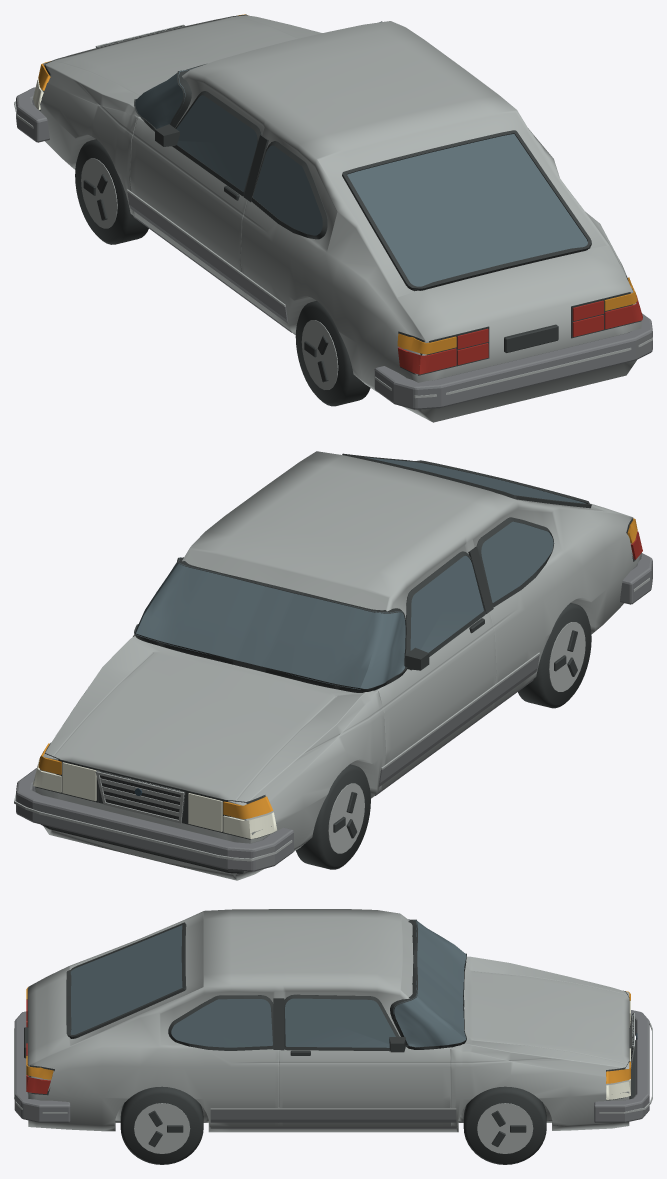
The model's file is saab900-t16.glb.
3 views of the same model, one above another, from view 1: azimuth 30°, elevation 25°; view 2: azimuth 150°, elevation 25°; view 3: azimuth 270°, elevation 25° (orthographic). The views are drawn at different scales.
Parts seen in each view (by area): view 1: body, glass_envelope, bumper_rear, round3_charcoal_plastic_rubber, round3_tail_lamp_red, wheel_rl, round3_bumper_grey, wheel_fl, trim_rim_fl, round3_satin_alloy, trim_rim_rl, round3_indicator_amber (+2 smaller); view 2: body, glass_envelope, round3_charcoal_plastic_rubber, bumper_front, round3_headlamp_ivory, round3_satin_alloy, wheel_fl, round3_bumper_grey, wheel_rl, trim_rim_fl, trim_rim_rl, round3_indicator_amber (+2 smaller); view 3: body, glass_envelope, round3_charcoal_plastic_rubber, round3_bumper_grey, wheel_fr, wheel_rr, bumper_front, bumper_rear, trim_rim_rr, trim_rim_fr, round3_satin_alloy, round3_indicator_amber (+4 smaller).
Part boxes in pixels (x1,y1,x2,y2): body: (34, 15, 642, 422); glass_envelope: (135, 22, 587, 286); bumper_rear: (374, 313, 652, 409); round3_charcoal_plastic_rubber: (39, 14, 641, 375); round3_tail_lamp_red: (398, 295, 642, 374); wheel_rl: (295, 301, 370, 406); round3_bumper_grey: (127, 192, 291, 332); wheel_fl: (75, 139, 148, 244); trim_rim_fl: (81, 158, 117, 228); round3_satin_alloy: (14, 24, 652, 398); trim_rim_rl: (301, 320, 338, 389); round3_indicator_amber: (38, 14, 637, 354); body: (34, 451, 641, 880); glass_envelope: (135, 457, 585, 689); round3_charcoal_plastic_rubber: (35, 453, 635, 839); bumper_front: (16, 768, 293, 871); round3_headlamp_ivory: (33, 759, 276, 838); round3_satin_alloy: (14, 578, 649, 861); wheel_fl: (296, 764, 370, 869); round3_bumper_grey: (375, 655, 539, 795); wheel_rl: (518, 602, 591, 708); trim_rim_fl: (328, 783, 364, 853); trim_rim_rl: (549, 622, 585, 691); round3_indicator_amber: (38, 518, 637, 819); body: (28, 909, 629, 1132); glass_envelope: (70, 919, 466, 1047); round3_charcoal_plastic_rubber: (27, 919, 633, 1100); round3_bumper_grey: (210, 1110, 456, 1128); wheel_fr: (463, 1086, 546, 1164); wheel_rr: (120, 1086, 203, 1164); bumper_front: (594, 1010, 649, 1122); bumper_rear: (14, 1011, 70, 1122); trim_rim_rr: (134, 1103, 190, 1153); trim_rim_fr: (477, 1103, 533, 1153); round3_satin_alloy: (14, 1013, 652, 1113); round3_indicator_amber: (26, 987, 630, 1083).
Size of the model in its own units: 1.75 by 1.42 by 4.69.
